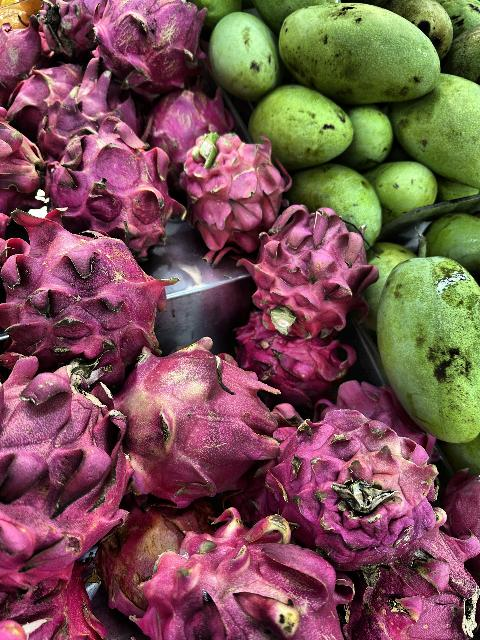buah-naga-belum-matang: (130, 504, 332, 640), (268, 403, 444, 557), (110, 345, 280, 491)
buah-naga-matang: (0, 351, 128, 569), (0, 196, 156, 362), (47, 126, 177, 252), (244, 202, 368, 331), (332, 532, 480, 640), (222, 294, 350, 404), (184, 134, 284, 243), (92, 0, 200, 94), (42, 68, 136, 142), (145, 91, 239, 153), (0, 112, 44, 202), (13, 62, 80, 120), (0, 21, 50, 88), (36, 1, 96, 54)
